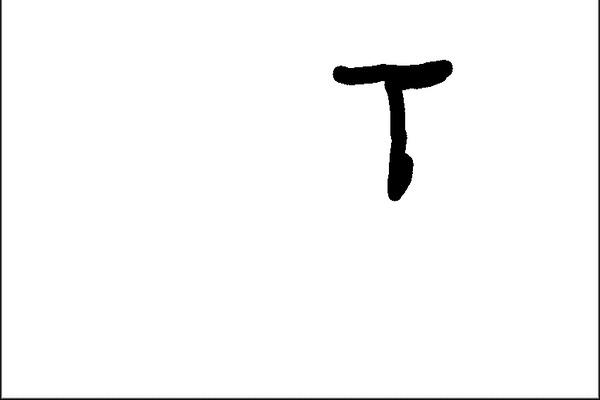T: (320, 54, 453, 204)
